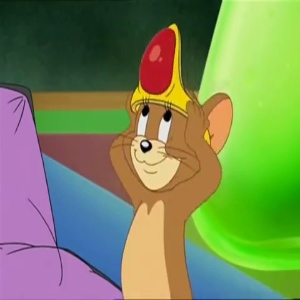Jerry: (117, 98, 195, 191)
